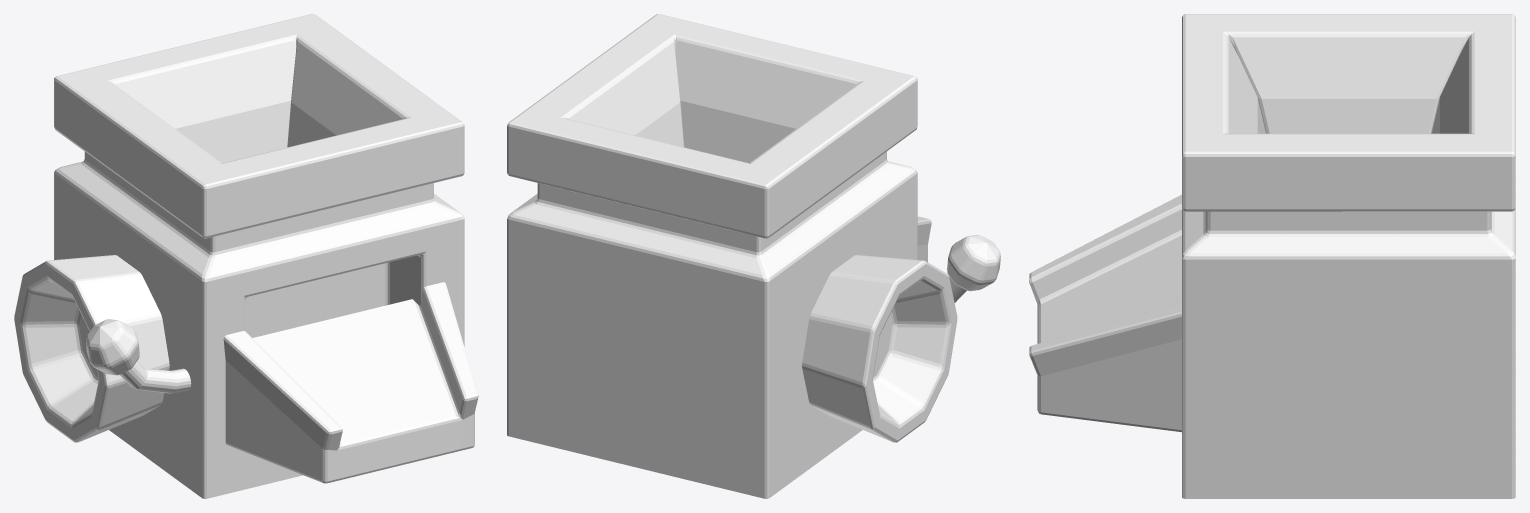
Rendered from Building_Bank_01.fbx.
3 renders of one model, left to right at view 1: azimuth 30°, elevation 25°; view 2: azimuth 150°, elevation 25°; view 3: azimuth 270°, elevation 25°, orthographic. The views are drawn at different scales.
Visible parts, largest first — view 1: Building_Bank_01; view 2: Building_Bank_01; view 3: Building_Bank_01.
Part boxes in pixels (box(x1,y1,x2,y2)): Building_Bank_01: box(14, 14, 478, 498); Building_Bank_01: box(507, 14, 1000, 498); Building_Bank_01: box(1029, 14, 1515, 498).
Bounding box in the file's own units: 2.4 × 2 × 2.55.
